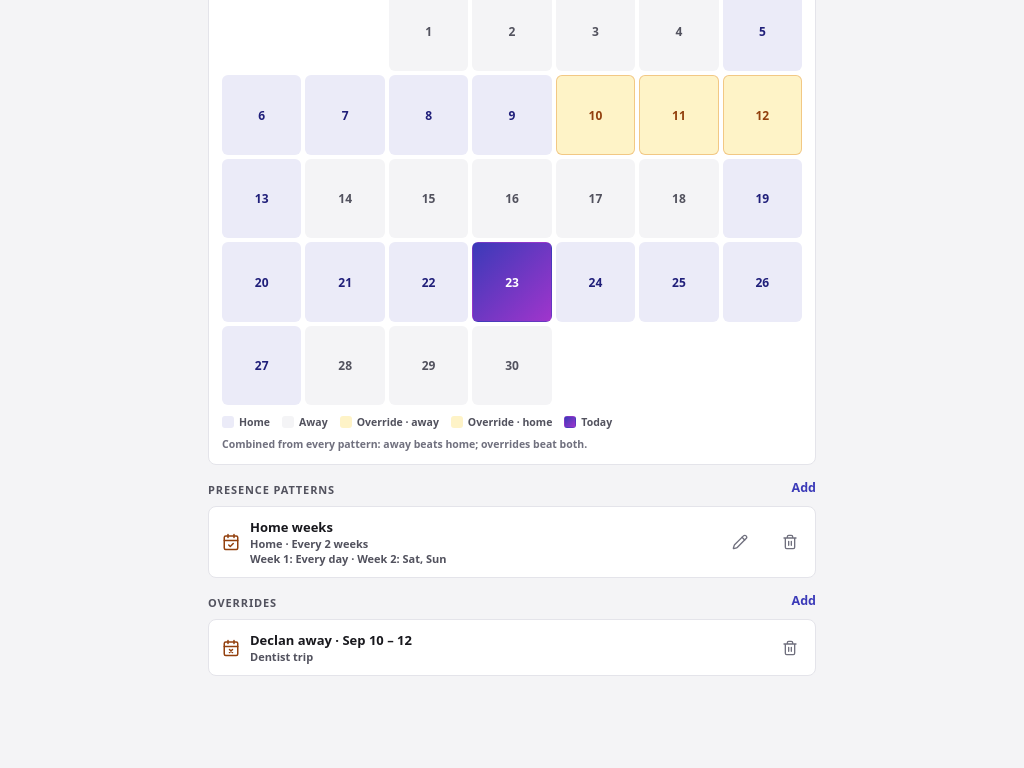
Test: OverrideEditor › renders the API's count verbatim — completed instances are excluded server-side
(page scrolled)
Check: the list item with test id "pattern-1" is shown, box [209,507,815,577]
Click the 2nd button "Add": [804, 599] box [792,588,816,609]
(page scrolled)
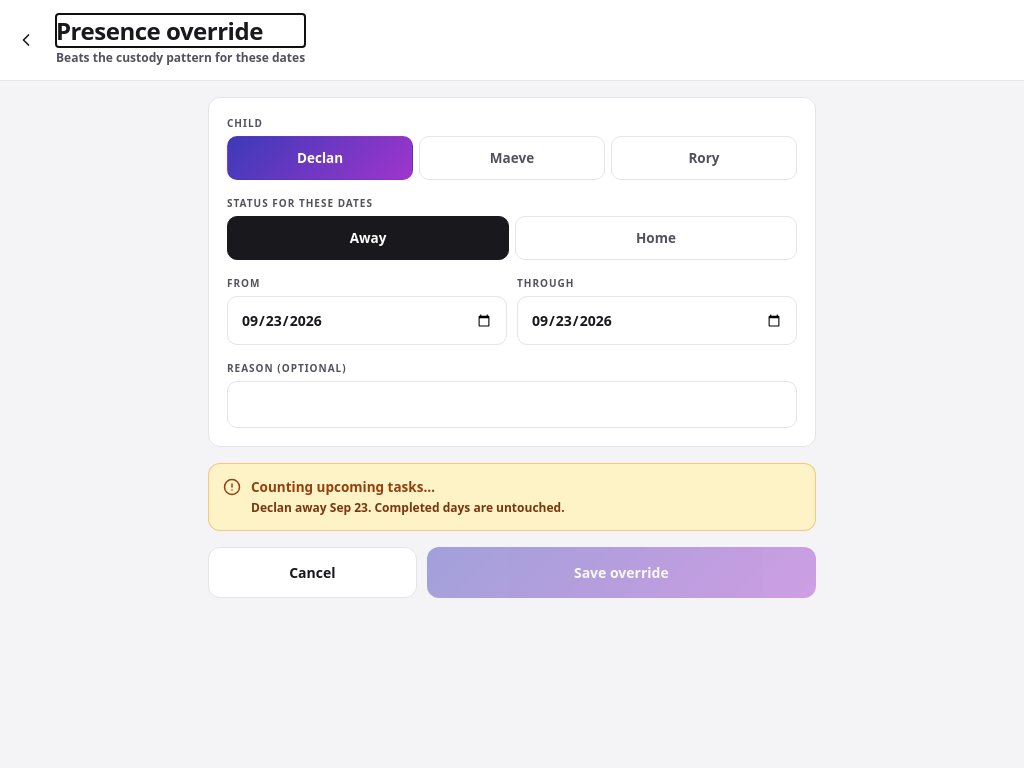
Check: the heading "Presence override" is shown, box [56,14,263,47]
In the date field labelled "Through": [657, 320] box [517,296,797,345], type "2026-09-25"
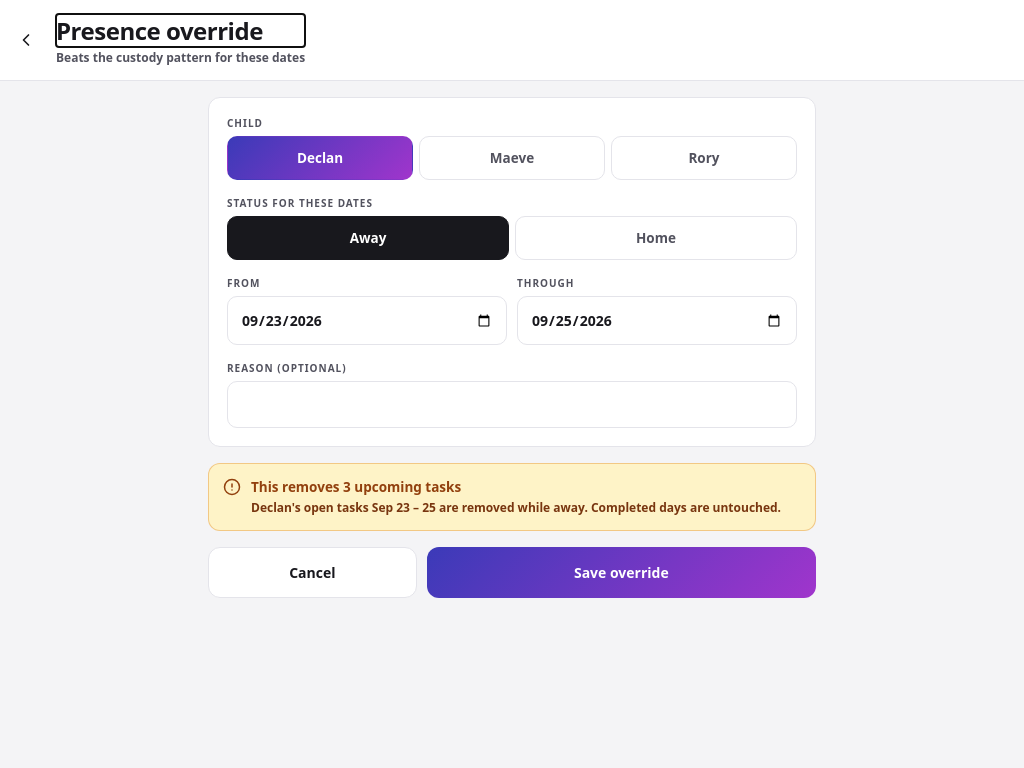
Check: the text with test id "override-consequence-headline" reads "This removes 3 upcoming tasks", box [251,478,461,496]
Check: the text with class "override-warning-body" shows "Declan's open tasks Sep 23 – 25 are removed while away. Completed days are untouched.", box [251,499,781,516]
